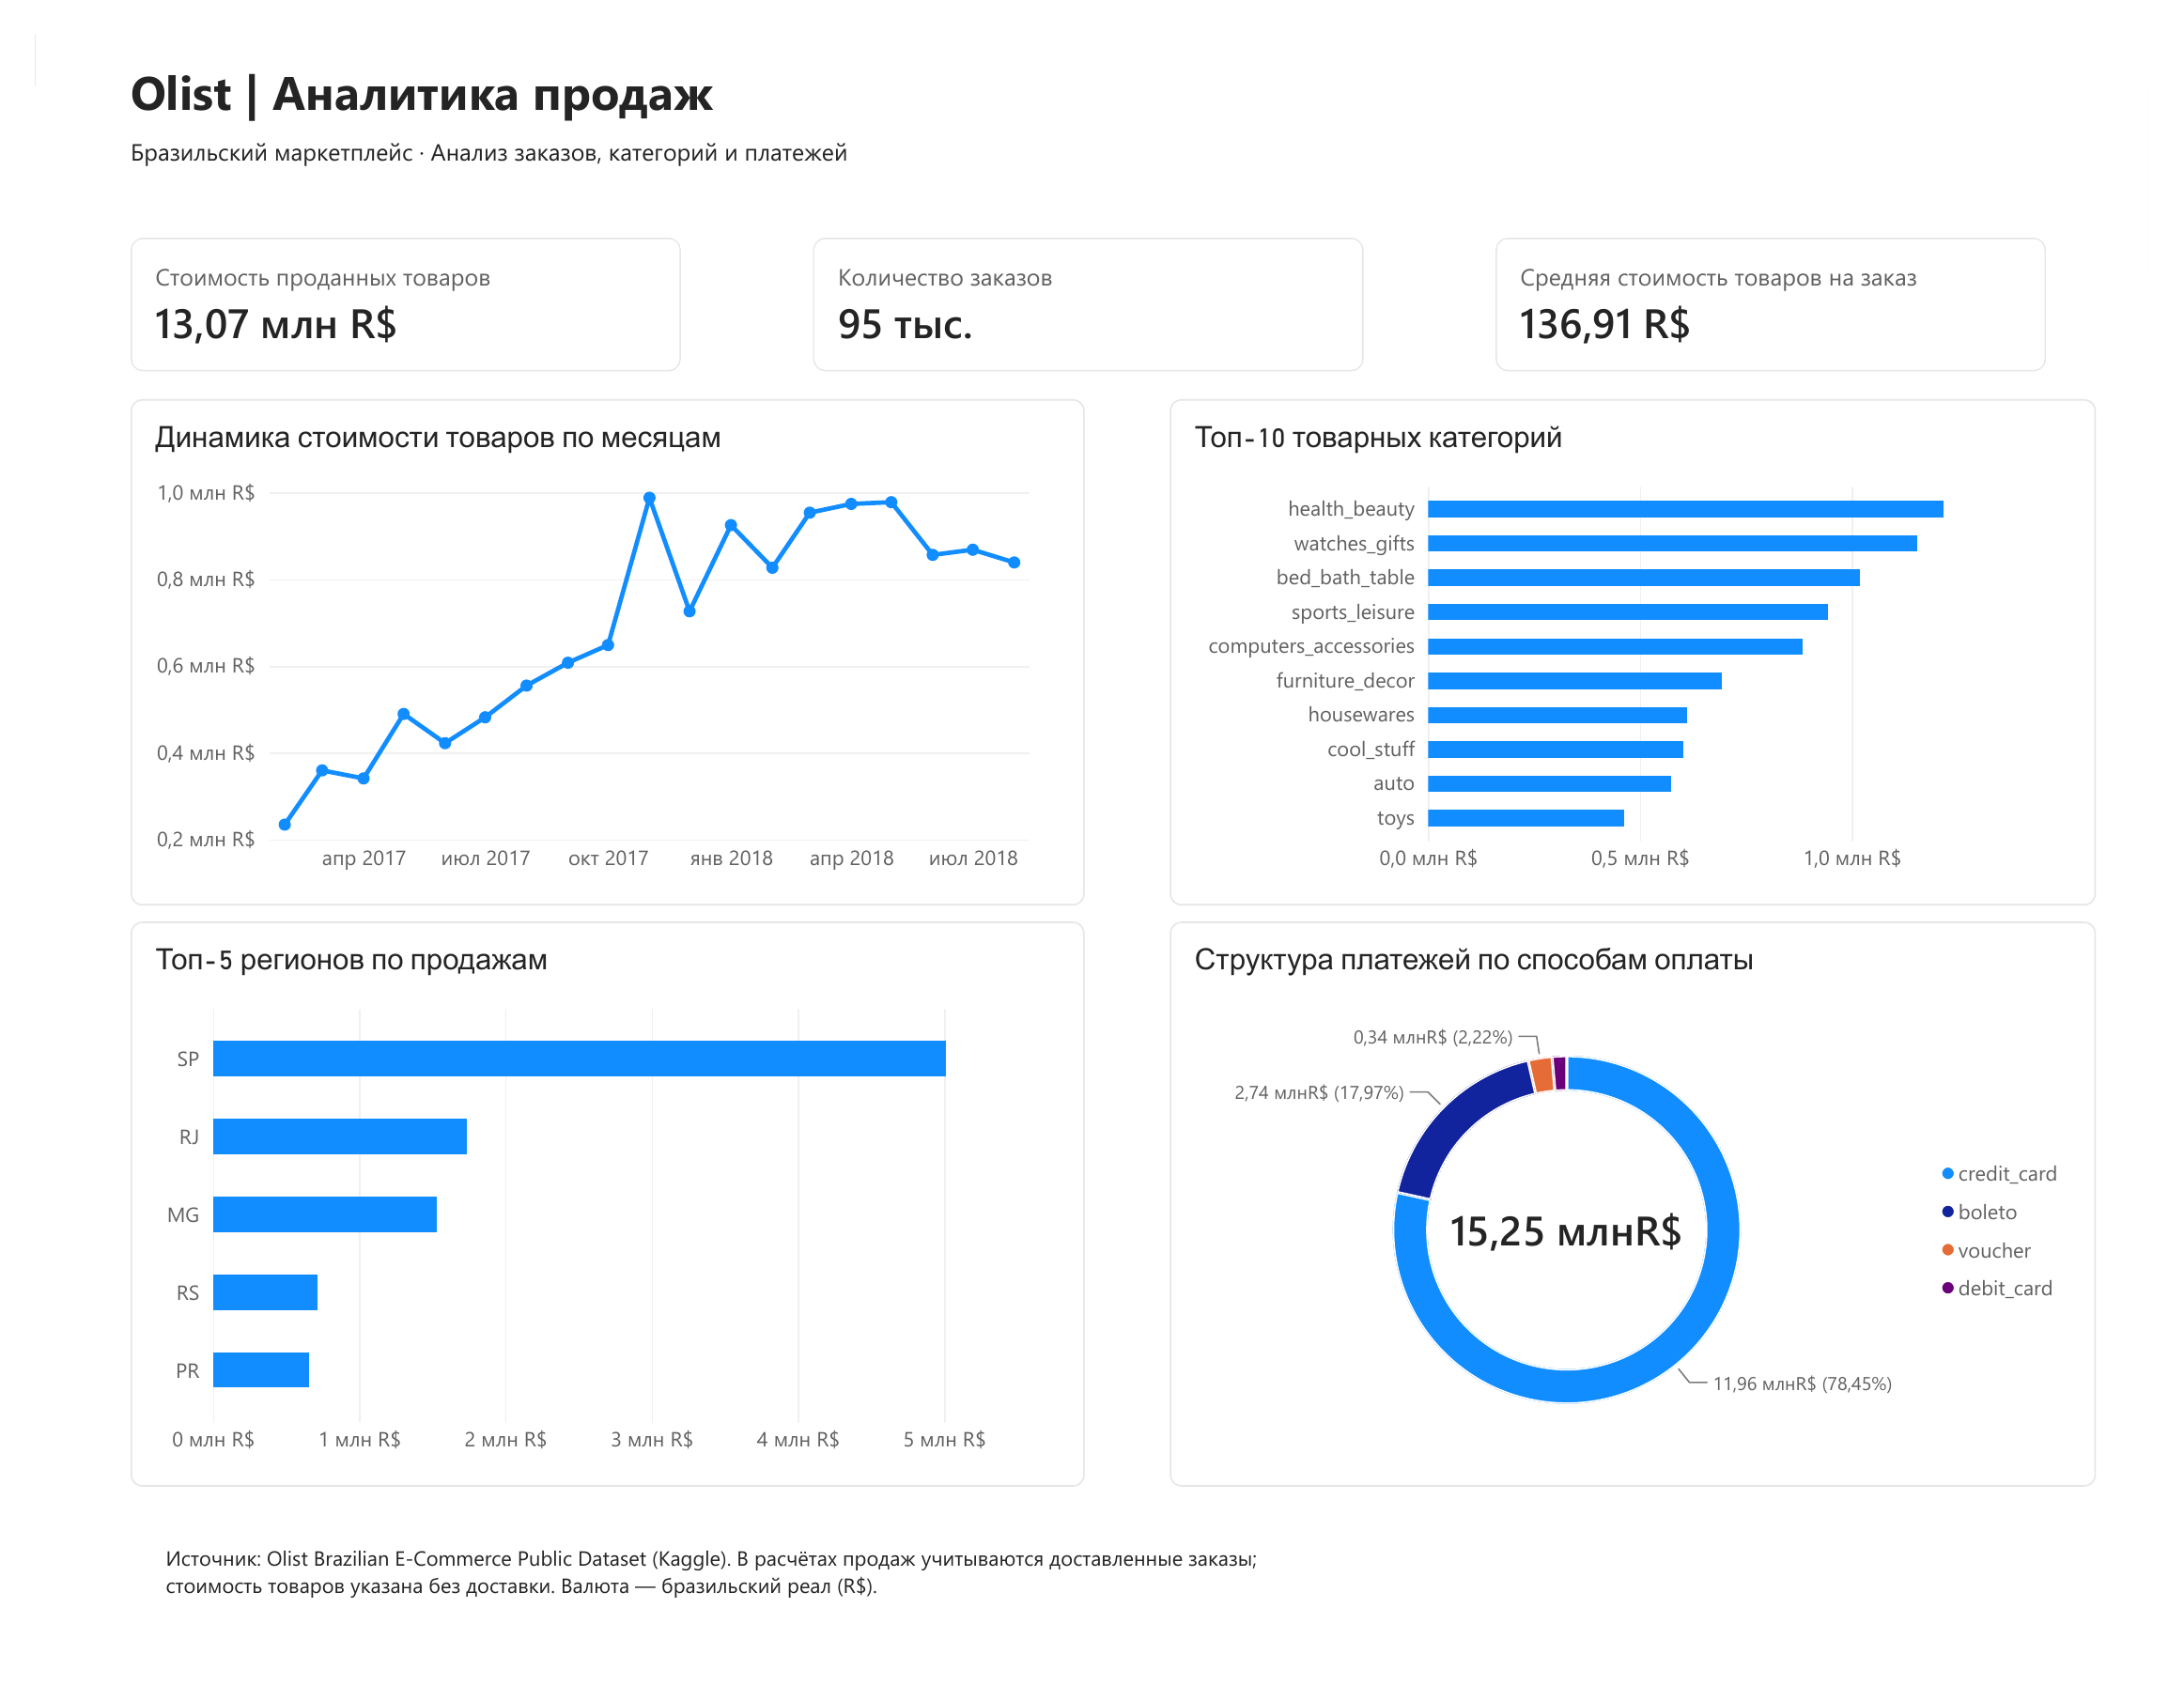

This screenshot's page, from the dashboard's own definition file:
{"tool":"powerbi","page":{"name":"Страница 1","canvas":[1440,1100],"ordinal":0},"visuals":[{"type":"cardVisual","title":"Стоимость проданных товаров","fields":{"Data":["public category_translation.Total Sales"]},"box":[65,137.5,375,91],"z":0},{"type":"cardVisual","fields":{"Data":["public category_translation.Total Orders"]},"box":[530,137.5,375,91],"z":1000},{"type":"cardVisual","fields":{"Data":["public category_translation.Average Order Value"]},"box":[995,137.5,375,91],"z":2000},{"type":"lineChart","title":"Динамика стоимости товаров по месяцам","fields":{"Category":["public orders.Order Month"],"Y":["public category_translation.Total Sales"]},"box":[65,247.5,650,345],"z":3000},{"type":"clusteredBarChart","title":"Топ-5 регионов по продажам","fields":{"Category":["public customers.customer_state"],"Y":["public category_translation.Total Sales"]},"box":[65,603.8,650,385],"z":4000},{"type":"clusteredBarChart","title":"Топ-10 товарных категорий","fields":{"Category":["public category_translation.product_category_name_english"],"Y":["public category_translation.Total Sales"]},"box":[772.5,247.5,631.2,345],"z":5000},{"type":"donutChart","title":"Структура платежей по способам оплаты","fields":{"Category":["public order_payments.payment_type"],"Y":["public order_payments.Total Payments"]},"box":[772.5,603.8,631.2,385],"z":6000},{"type":"textbox","box":[65,16.2,426.2,67.5],"z":6001},{"type":"textbox","box":[65,68.8,545,42.5],"z":6002},{"type":"textbox","box":[88.8,1027.5,771.2,72.5],"z":6003}]}

Visuals, with their boxes on the page's 1440x1100 design canvas (x1, y1, x2, y2). These are canvas units, not pixel positions in the 2184x1685 screenshot, which may show the page scaled, cropped or inside an application window:
"Стоимость проданных товаров" cardVisual: crop(65, 138, 440, 228)
cardVisual - public category_translation.Total Orders: crop(530, 138, 905, 228)
cardVisual - public category_translation.Average Order Value: crop(995, 138, 1370, 228)
"Динамика стоимости товаров по месяцам" lineChart: crop(65, 248, 715, 592)
"Топ-5 регионов по продажам" clusteredBarChart: crop(65, 604, 715, 989)
"Топ-10 товарных категорий" clusteredBarChart: crop(772, 248, 1404, 592)
"Структура платежей по способам оплаты" donutChart: crop(772, 604, 1404, 989)
textbox: crop(65, 16, 491, 84)
textbox: crop(65, 69, 610, 111)
textbox: crop(89, 1028, 860, 1100)
